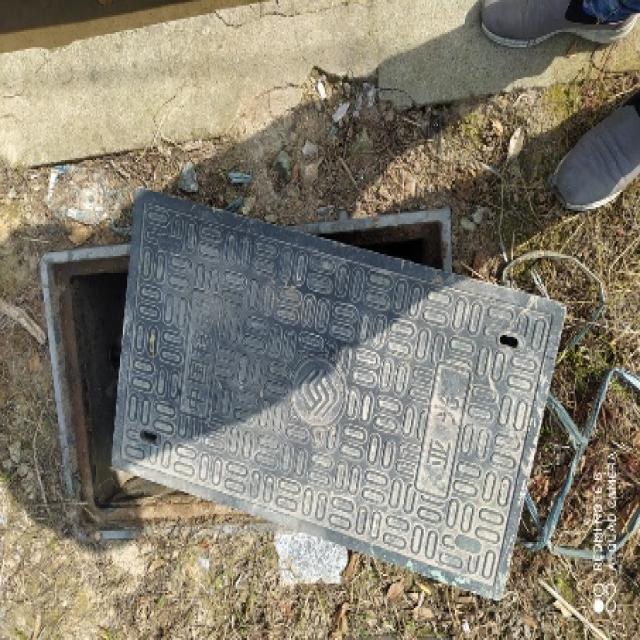Faulty: (22, 210, 561, 590)
